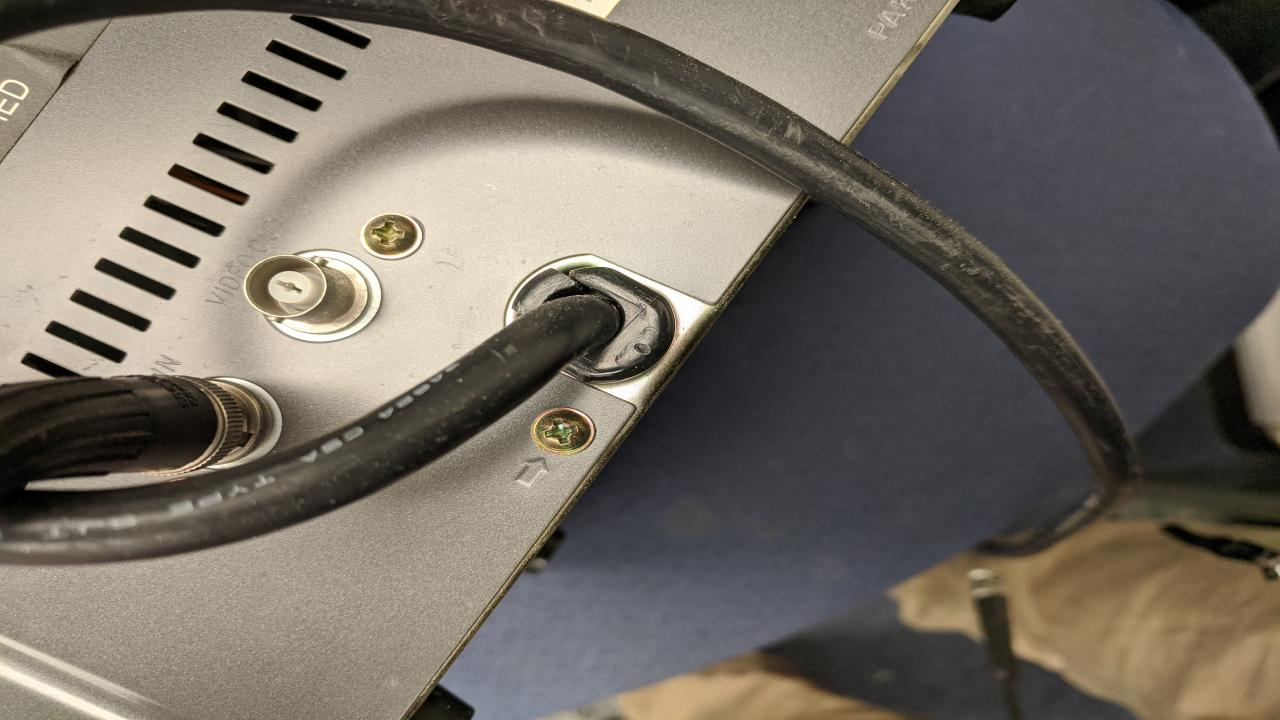CRS: (361, 214, 423, 260), (537, 408, 593, 452)
